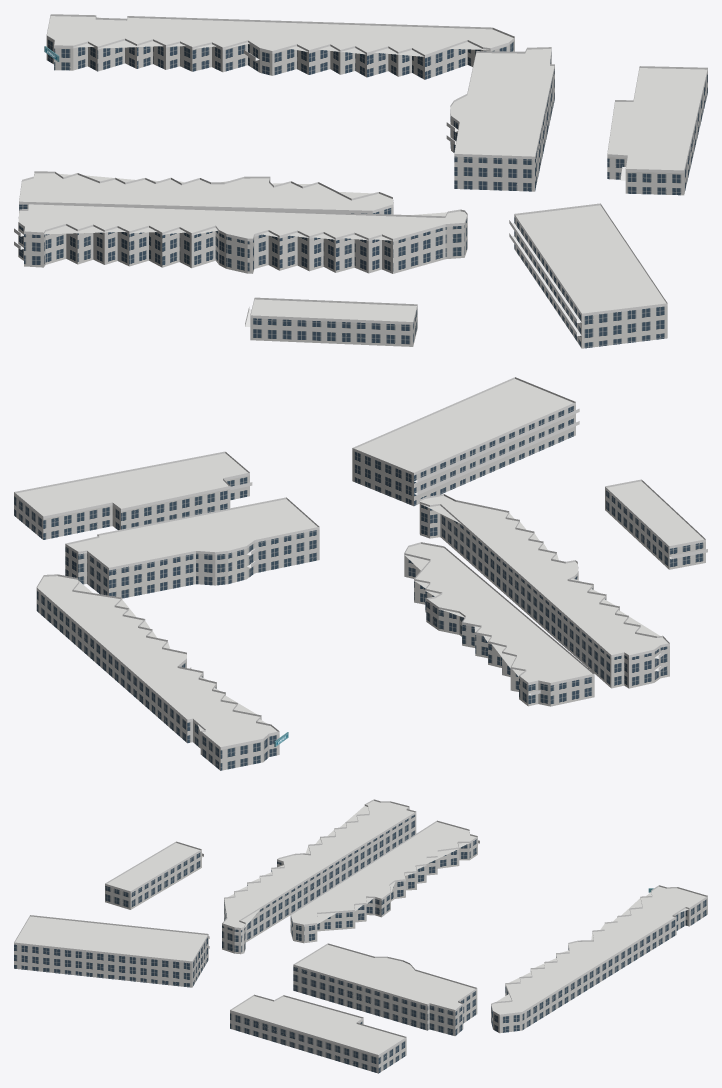
Rendered from oceania.glb.
The picture shows the model from 3 angles, top to bottom: view 1: azimuth 30°, elevation 25°; view 2: azimuth 150°, elevation 25°; view 3: azimuth 270°, elevation 25°; orthographic projection. The views are drawn at different scales.
Visible parts, largest first — view 1: oceania_lod0; view 2: oceania_lod0; view 3: oceania_lod0.
Part boxes in pixels (<box>): oceania_lod0: <box>14,14,707,348</box>; oceania_lod0: <box>14,377,707,770</box>; oceania_lod0: <box>14,799,707,1073</box>.
Size of what is drawn, in the model's own units: 176 by 9.98 by 205.
Materials: 5 (2 with a texture image).
